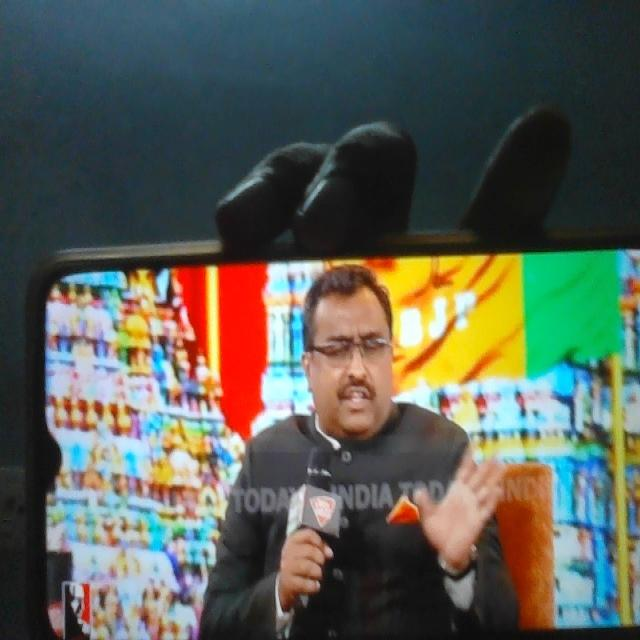fake: (295, 231, 417, 461)
